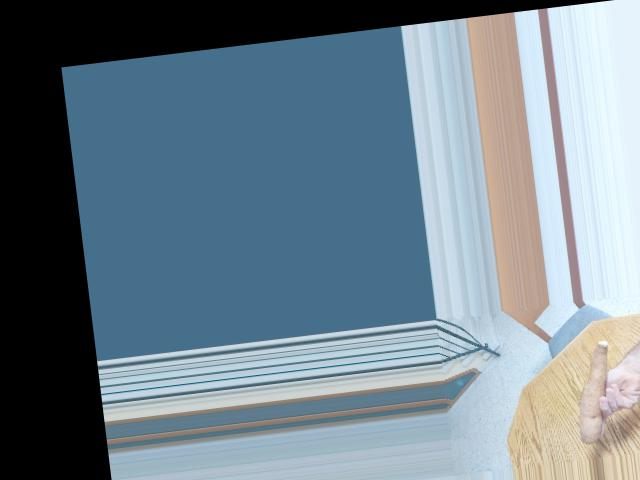sweet_potato: (562, 336, 620, 442)
